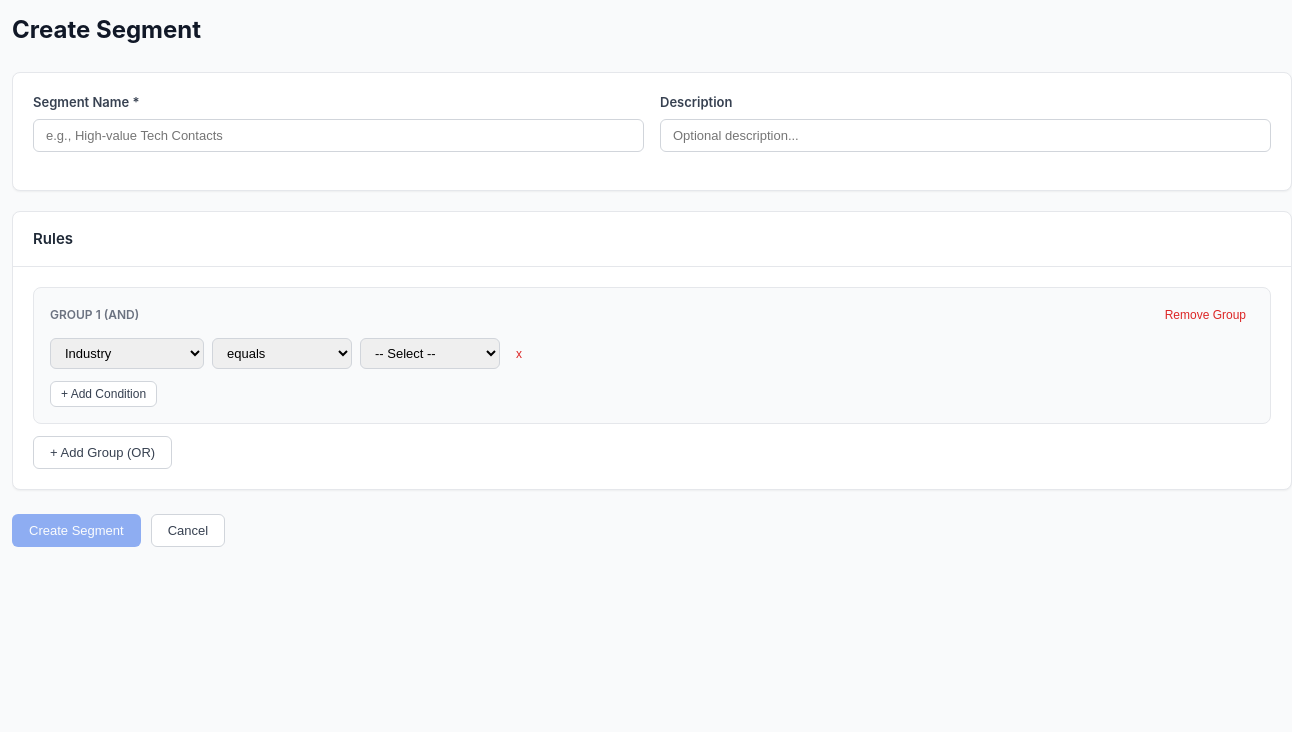
Test: SegmentBuilder component › removes a rule when clicking x
The image size is (1292, 732).
Note: Add a second rule first
Click the button "+ Add Condition" at (104, 394), box [50,381,157,407]
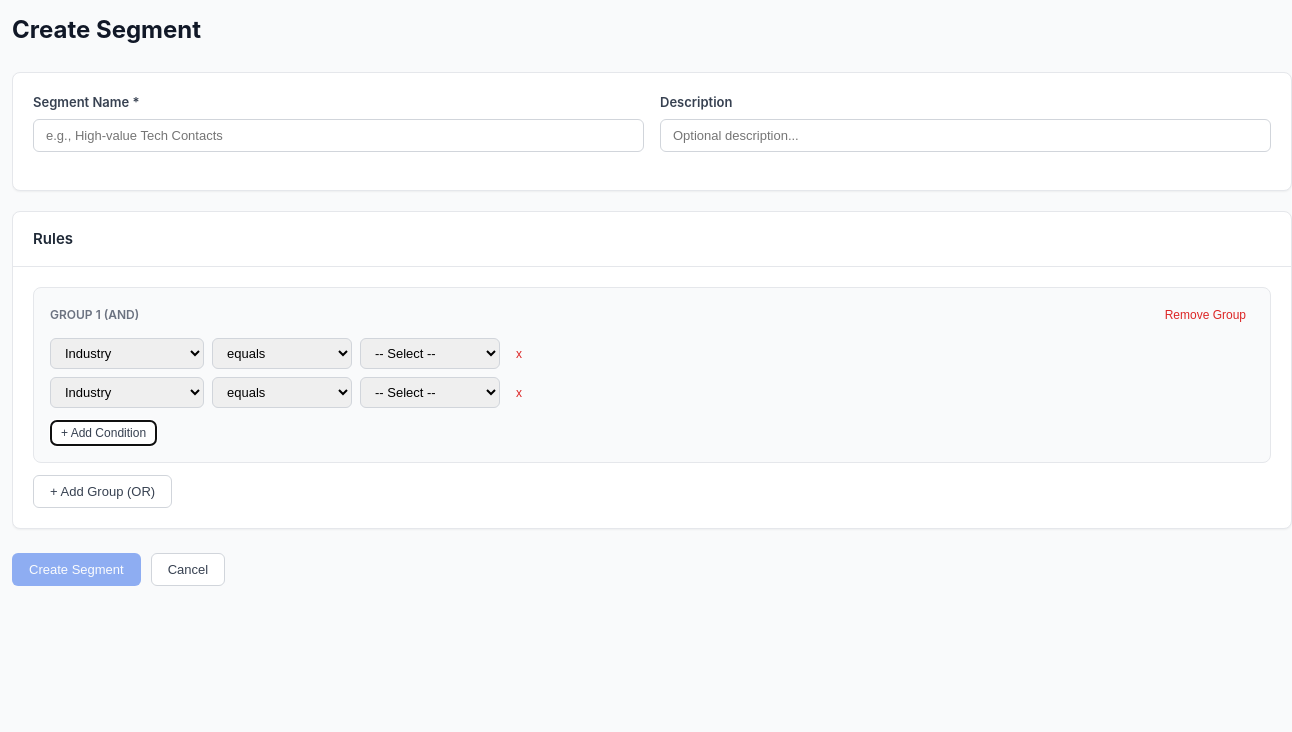
Note: Click the first x button to remove
Click the 1st button "x" at (519, 354), box [508,342,530,364]
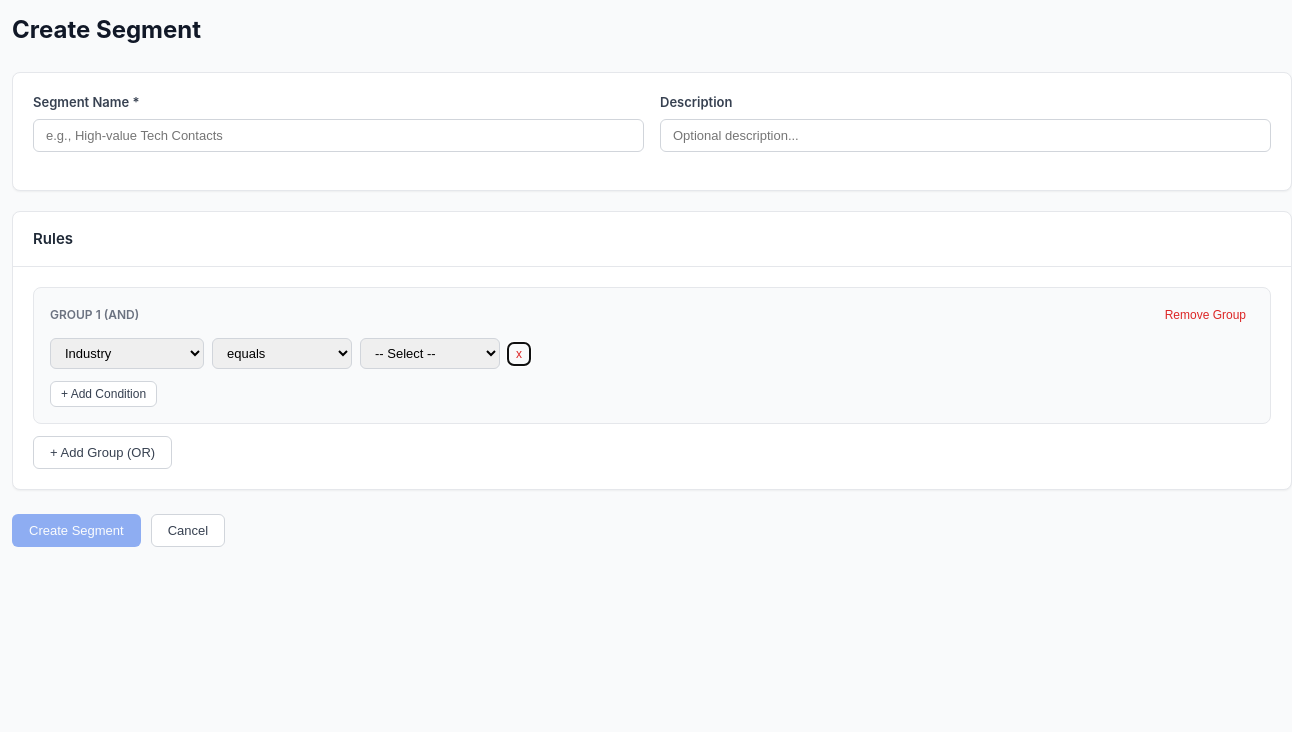
Expected: the number of dropdowns showing "Industry" is 1, [50,338,204,369]
